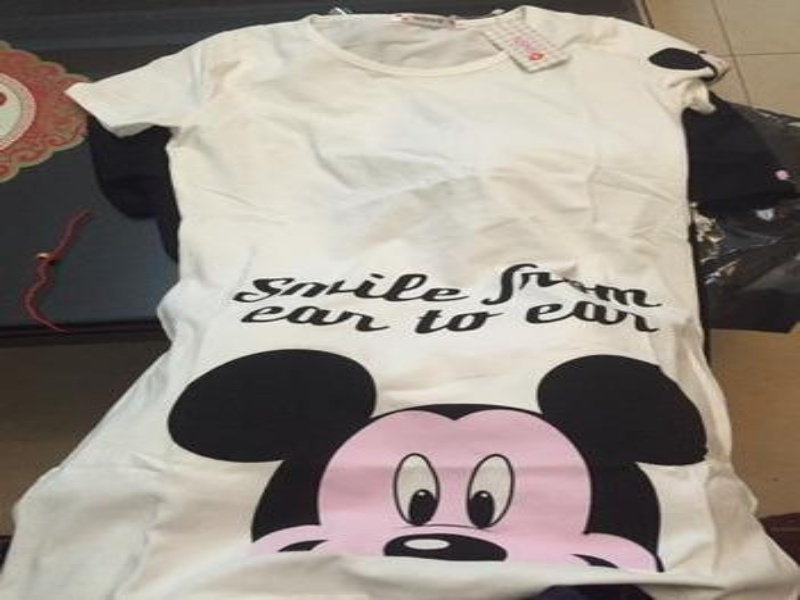short_sleeved_dress: (2, 4, 798, 599)
